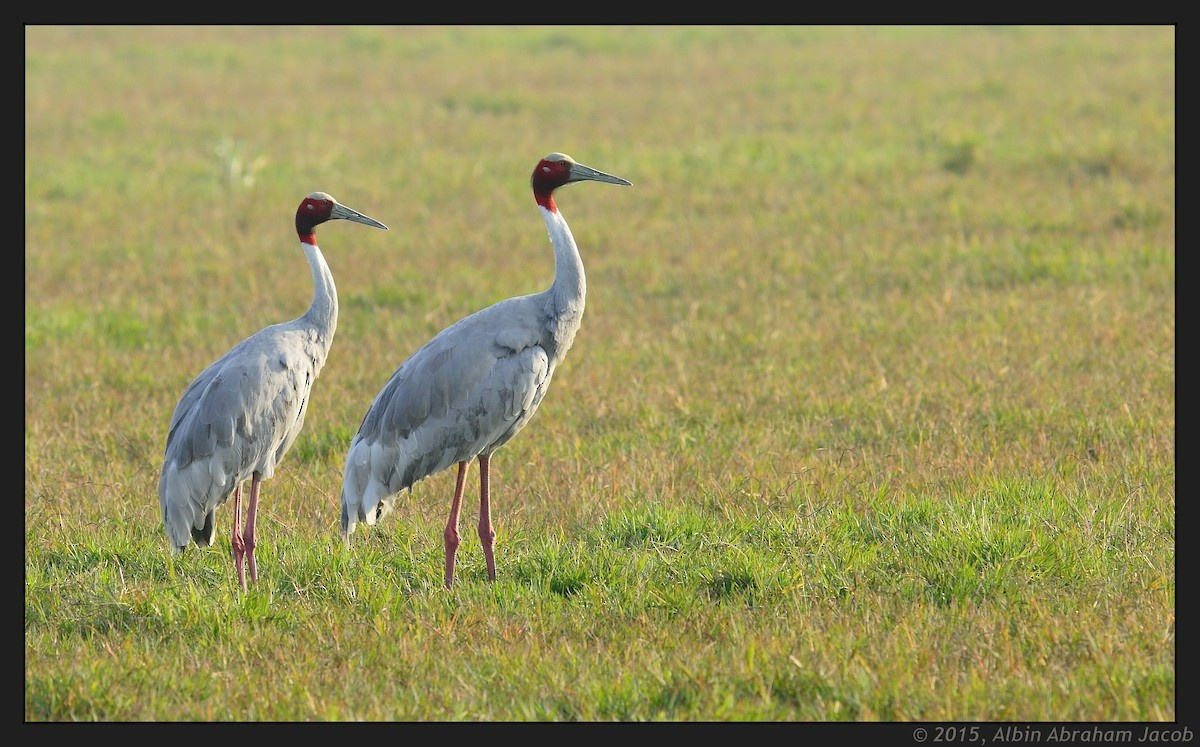crane: (334, 149, 648, 592), (153, 186, 386, 598)
